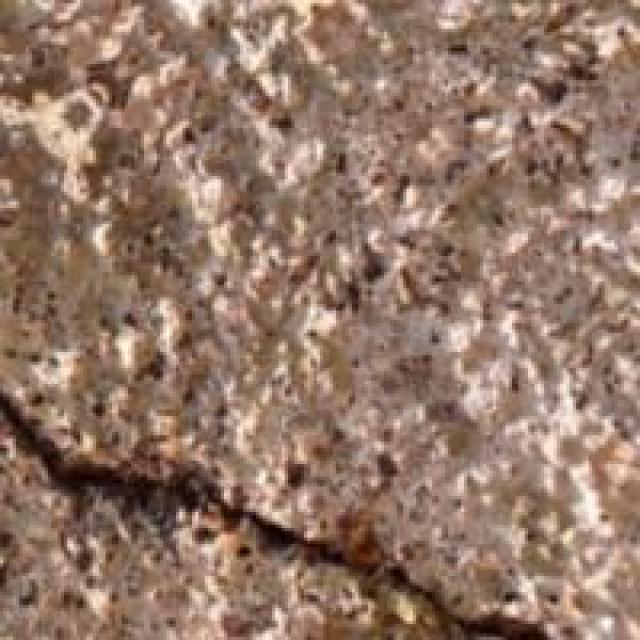Crack: (0, 342, 550, 636)
